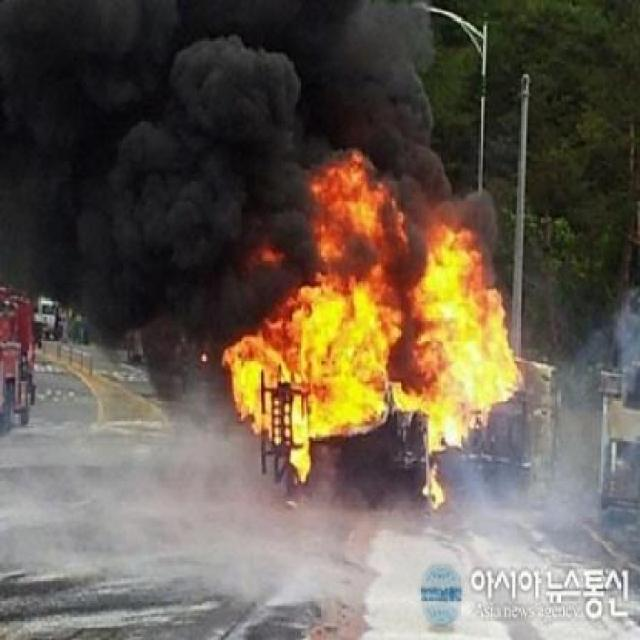Fire: (214, 142, 531, 528)
Smoke: (0, 0, 322, 400), (2, 366, 356, 640), (426, 269, 639, 640), (292, 0, 510, 286)
